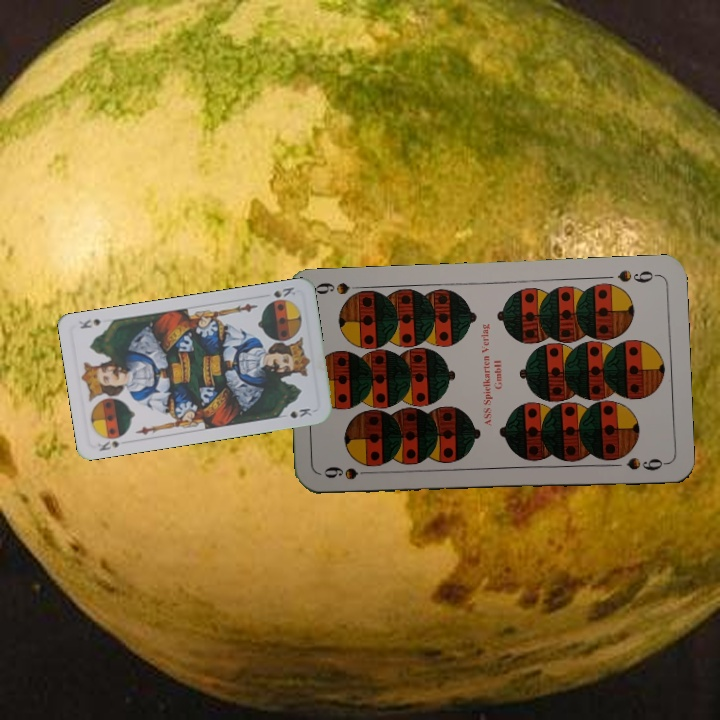S9: (320, 462, 378, 482), (614, 266, 661, 285)
SK: (94, 430, 132, 454), (269, 283, 298, 300)
